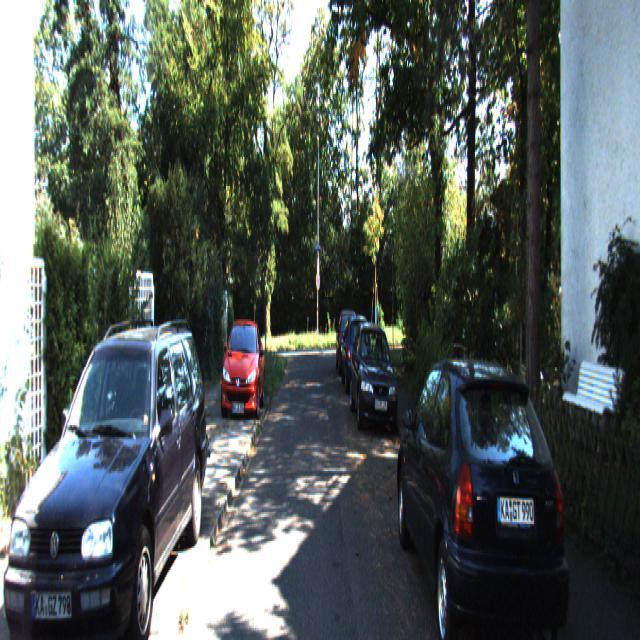Car: (2, 311, 211, 638), (394, 331, 576, 638), (349, 318, 399, 436), (220, 310, 265, 419), (341, 312, 374, 392), (336, 309, 363, 377)
